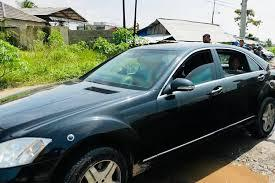Pothole: (182, 145, 275, 183)
